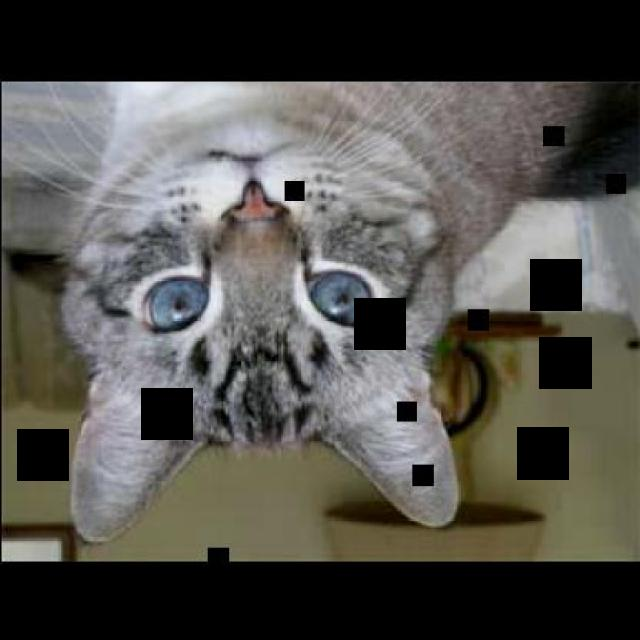unauthorized: (1, 80, 638, 543)
